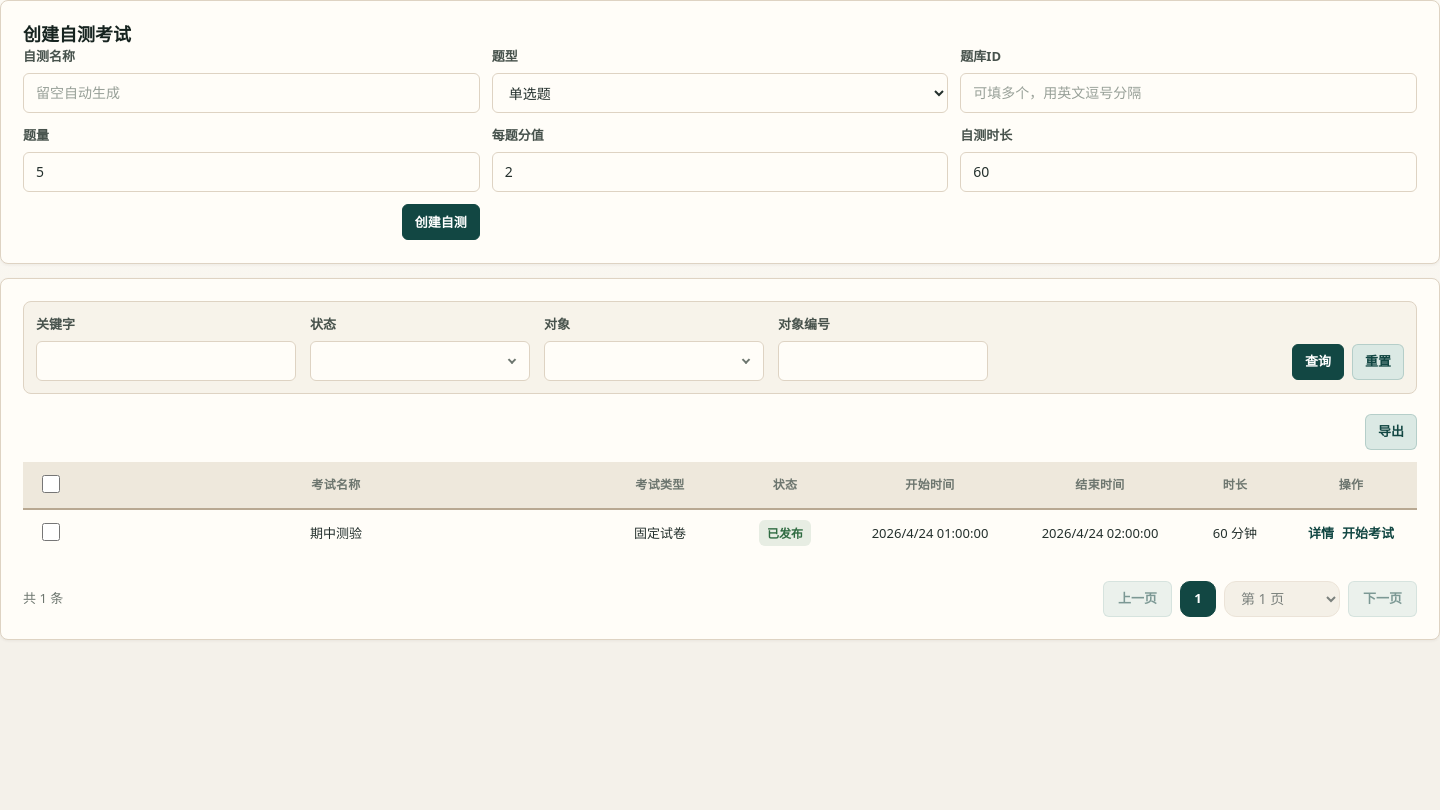
Test: StudentExamPage › creates and publishes a private self-test exam
Expected: the text "期中测验" is shown, [77, 509, 595, 557]
Step 1. Type "函数自测" into the field labelled "自测名称" → x=251, y=93, box [23, 73, 480, 113]
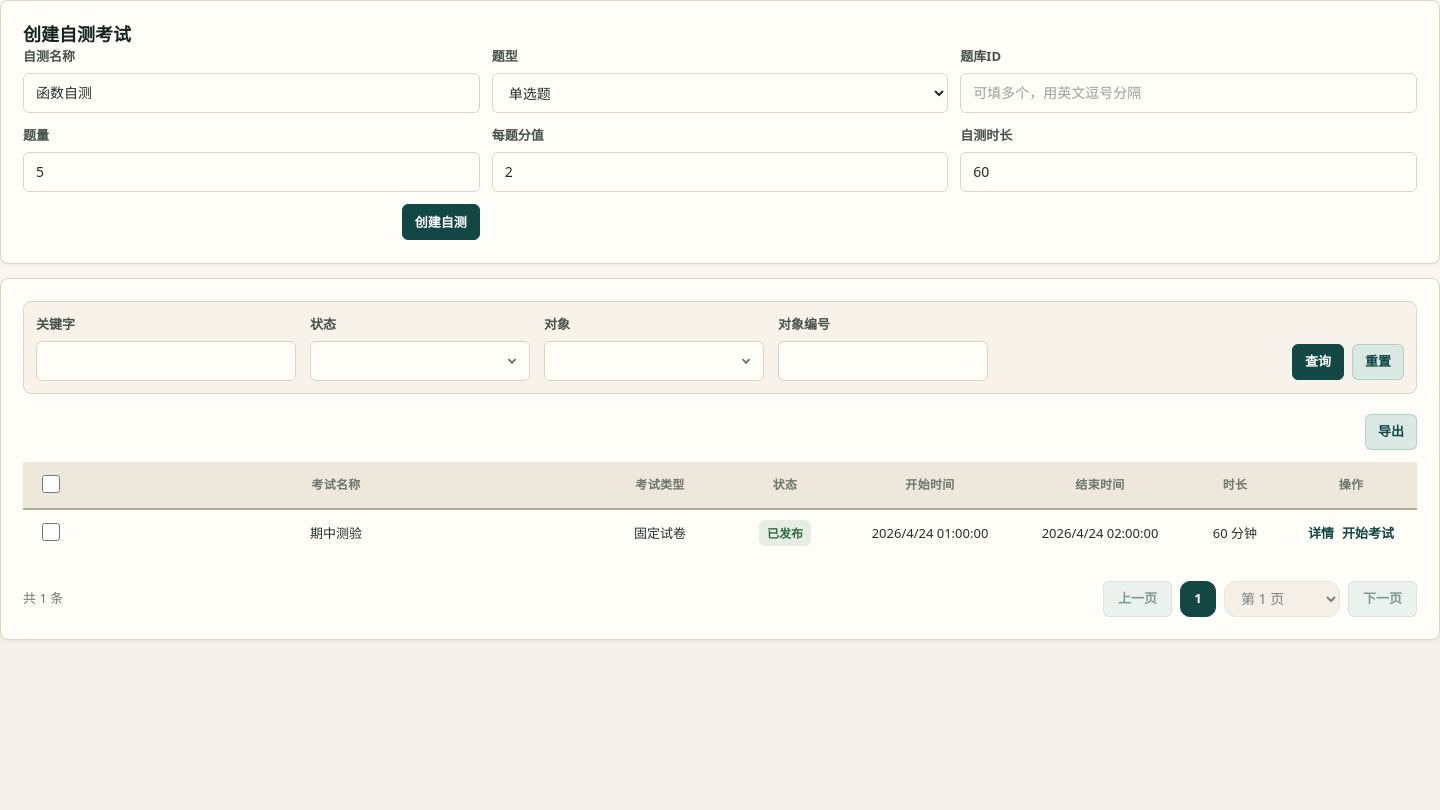
Step 2. Select "多选题" in the dropdown labelled "题型" → x=720, y=93, box [492, 73, 948, 113]
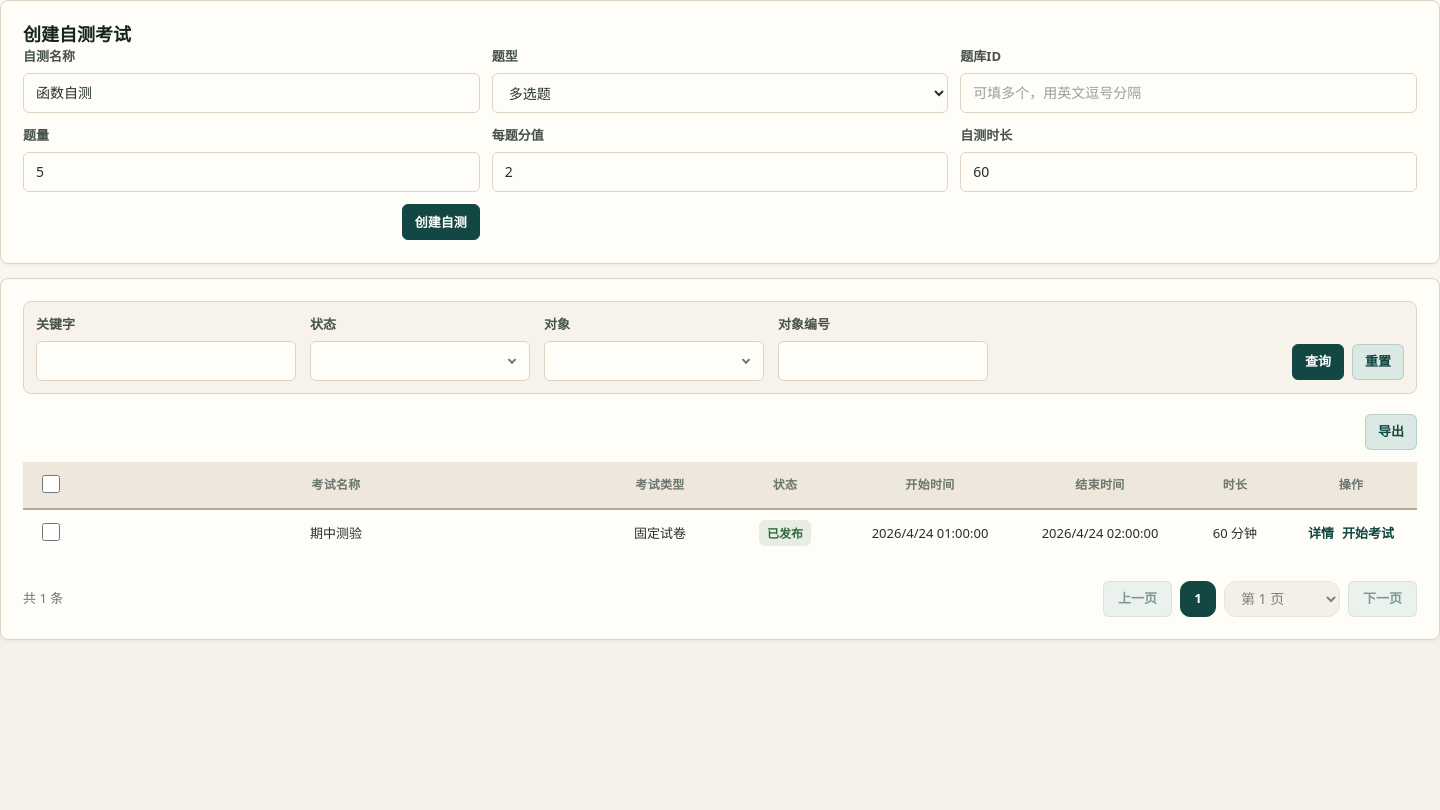
Step 3. Type "11,12" into the field labelled "题库ID" → x=1189, y=93, box [960, 73, 1417, 113]
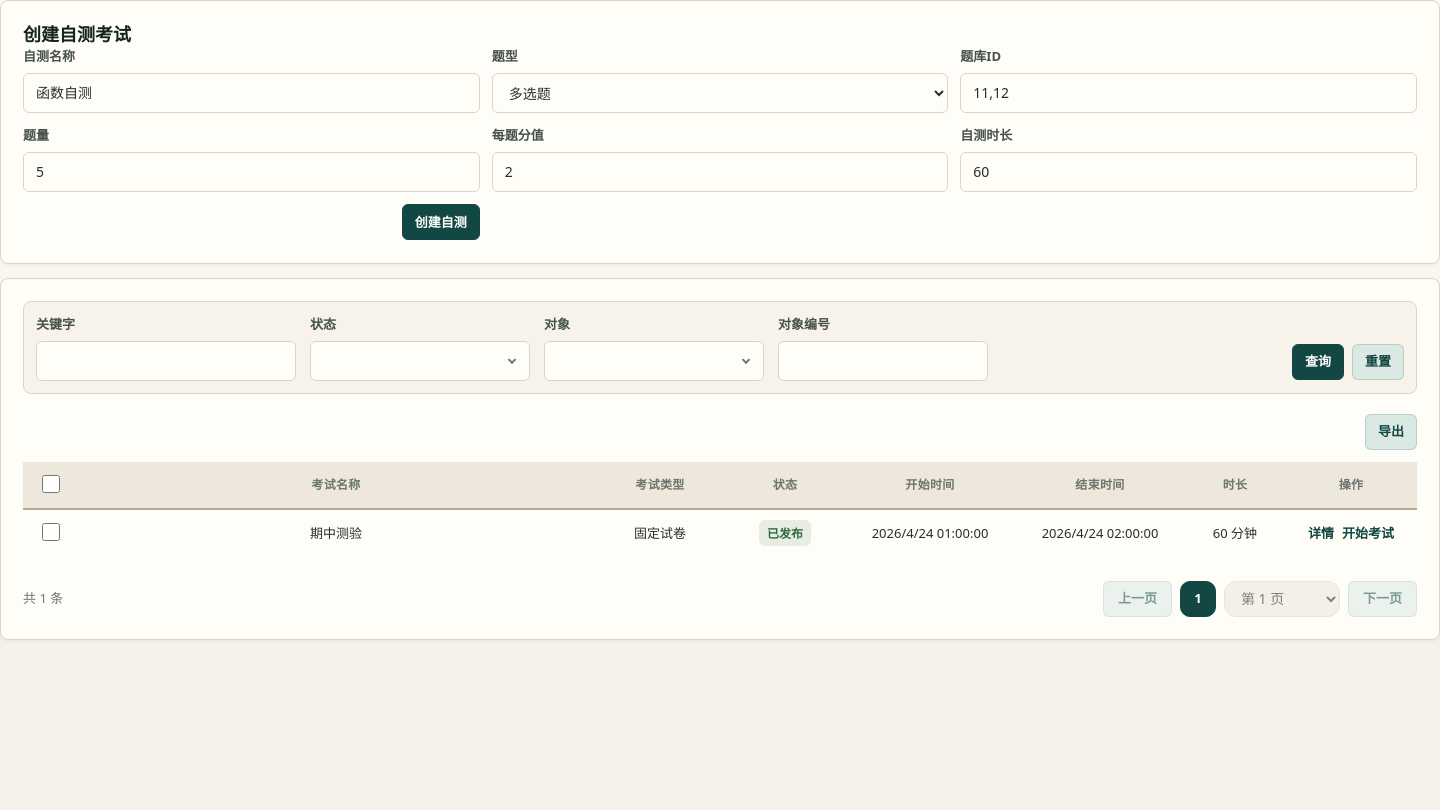
Step 4. Replace the text in the field labelled "题量" with "6" → x=251, y=172, box [23, 152, 480, 192]
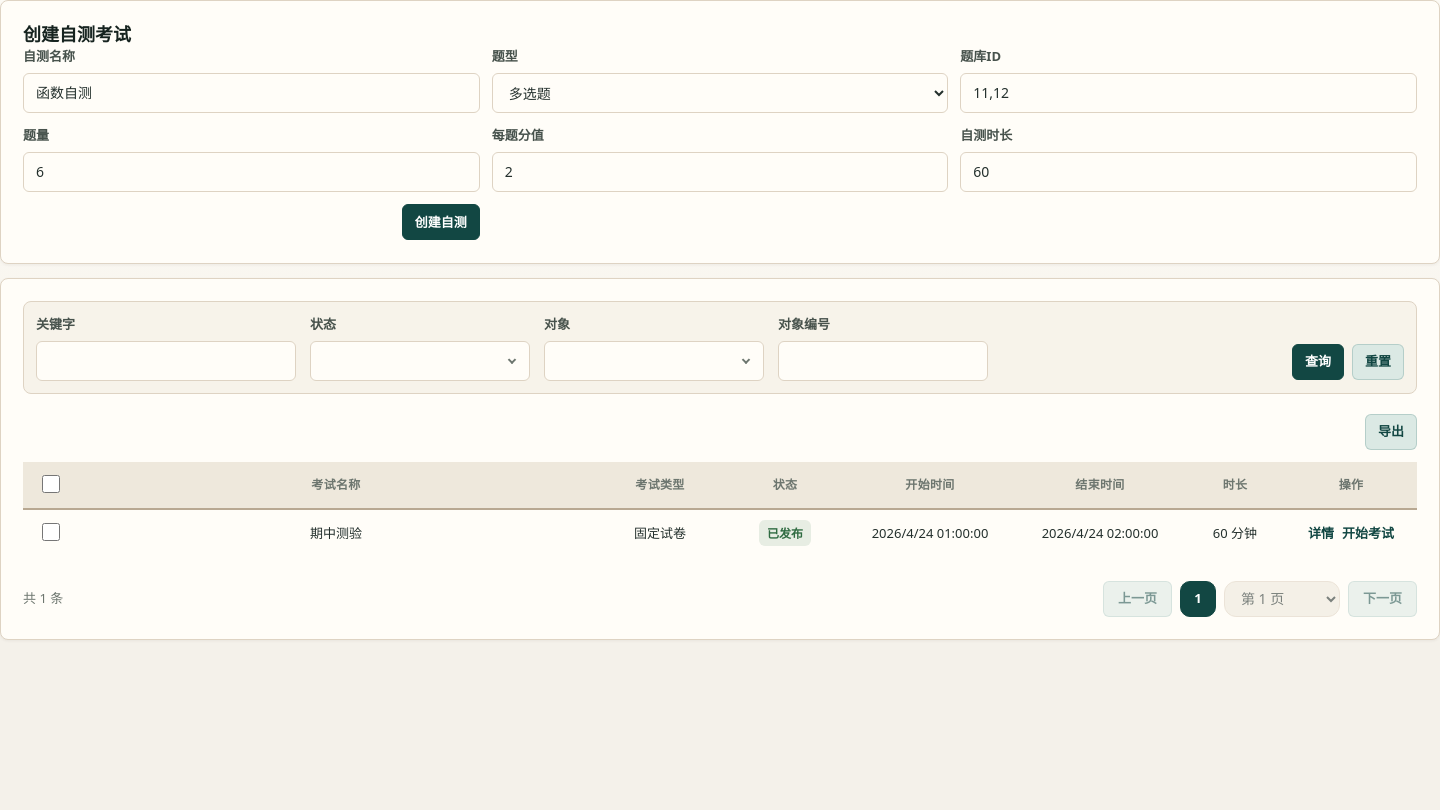
Step 5. Replace the text in the field labelled "每题分值" with "3" → x=720, y=172, box [492, 152, 948, 192]
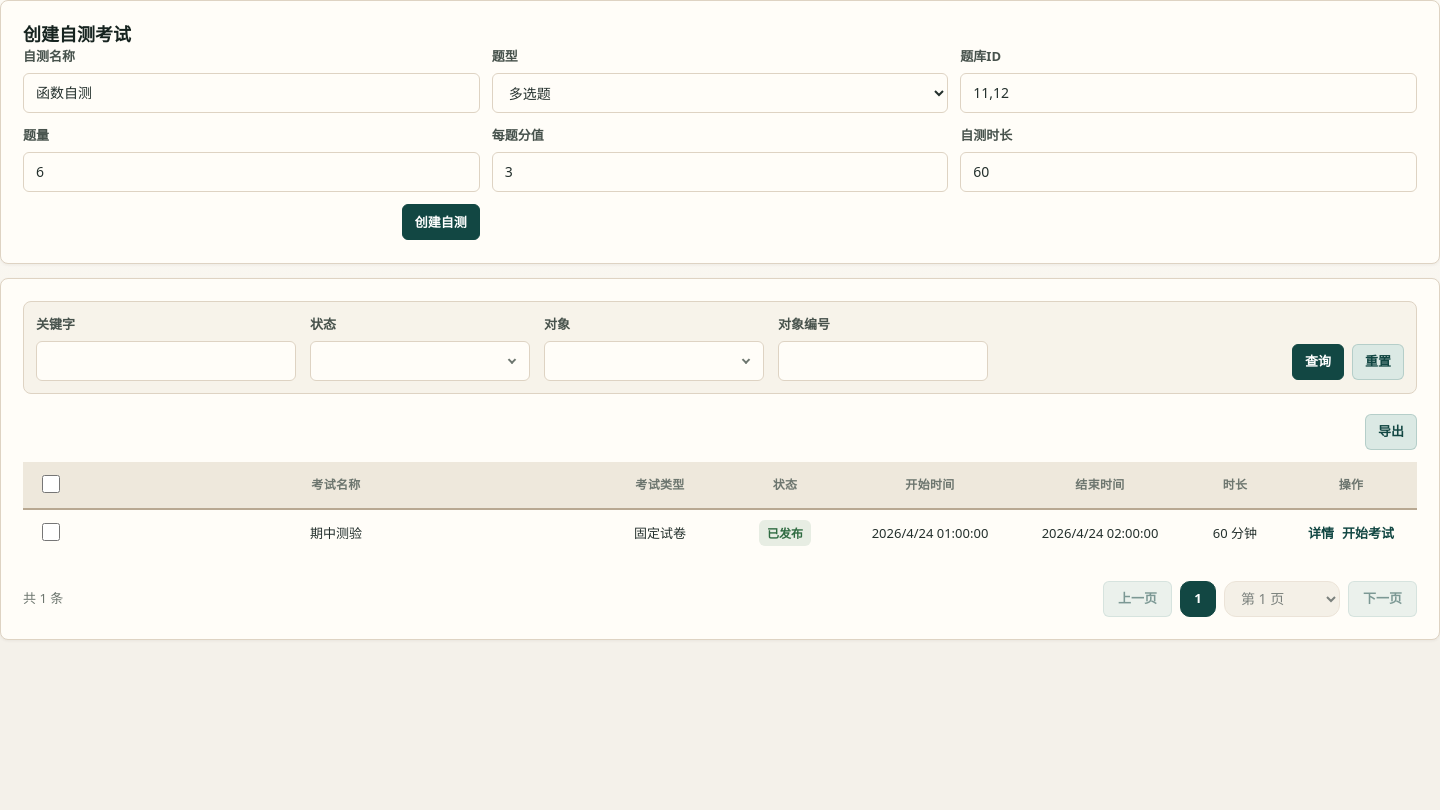
Step 6. Click the button "创建自测" → x=441, y=222, box [402, 204, 480, 240]
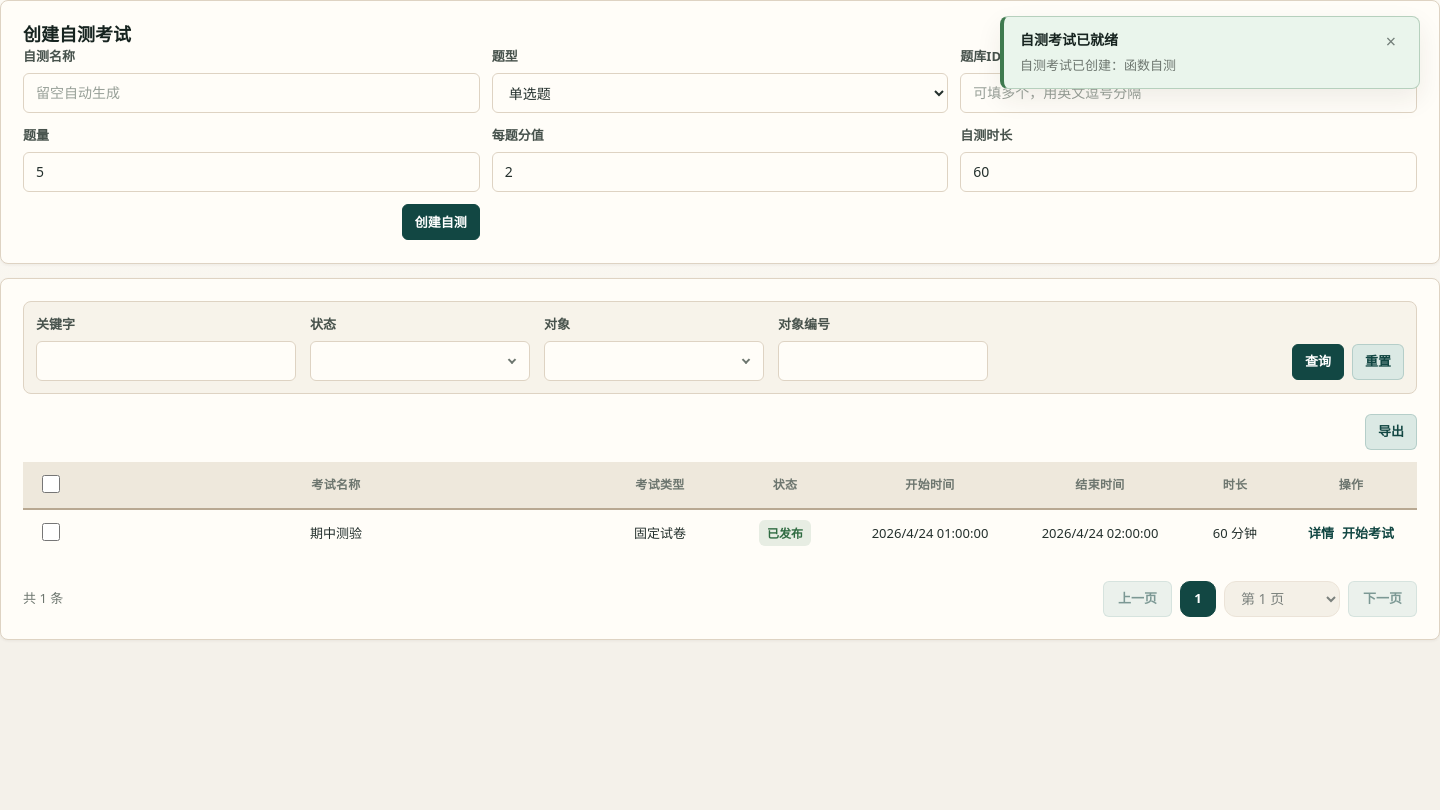
Result: the text "自测考试已创建：函数自测" is shown at [1020, 56, 1176, 74]
